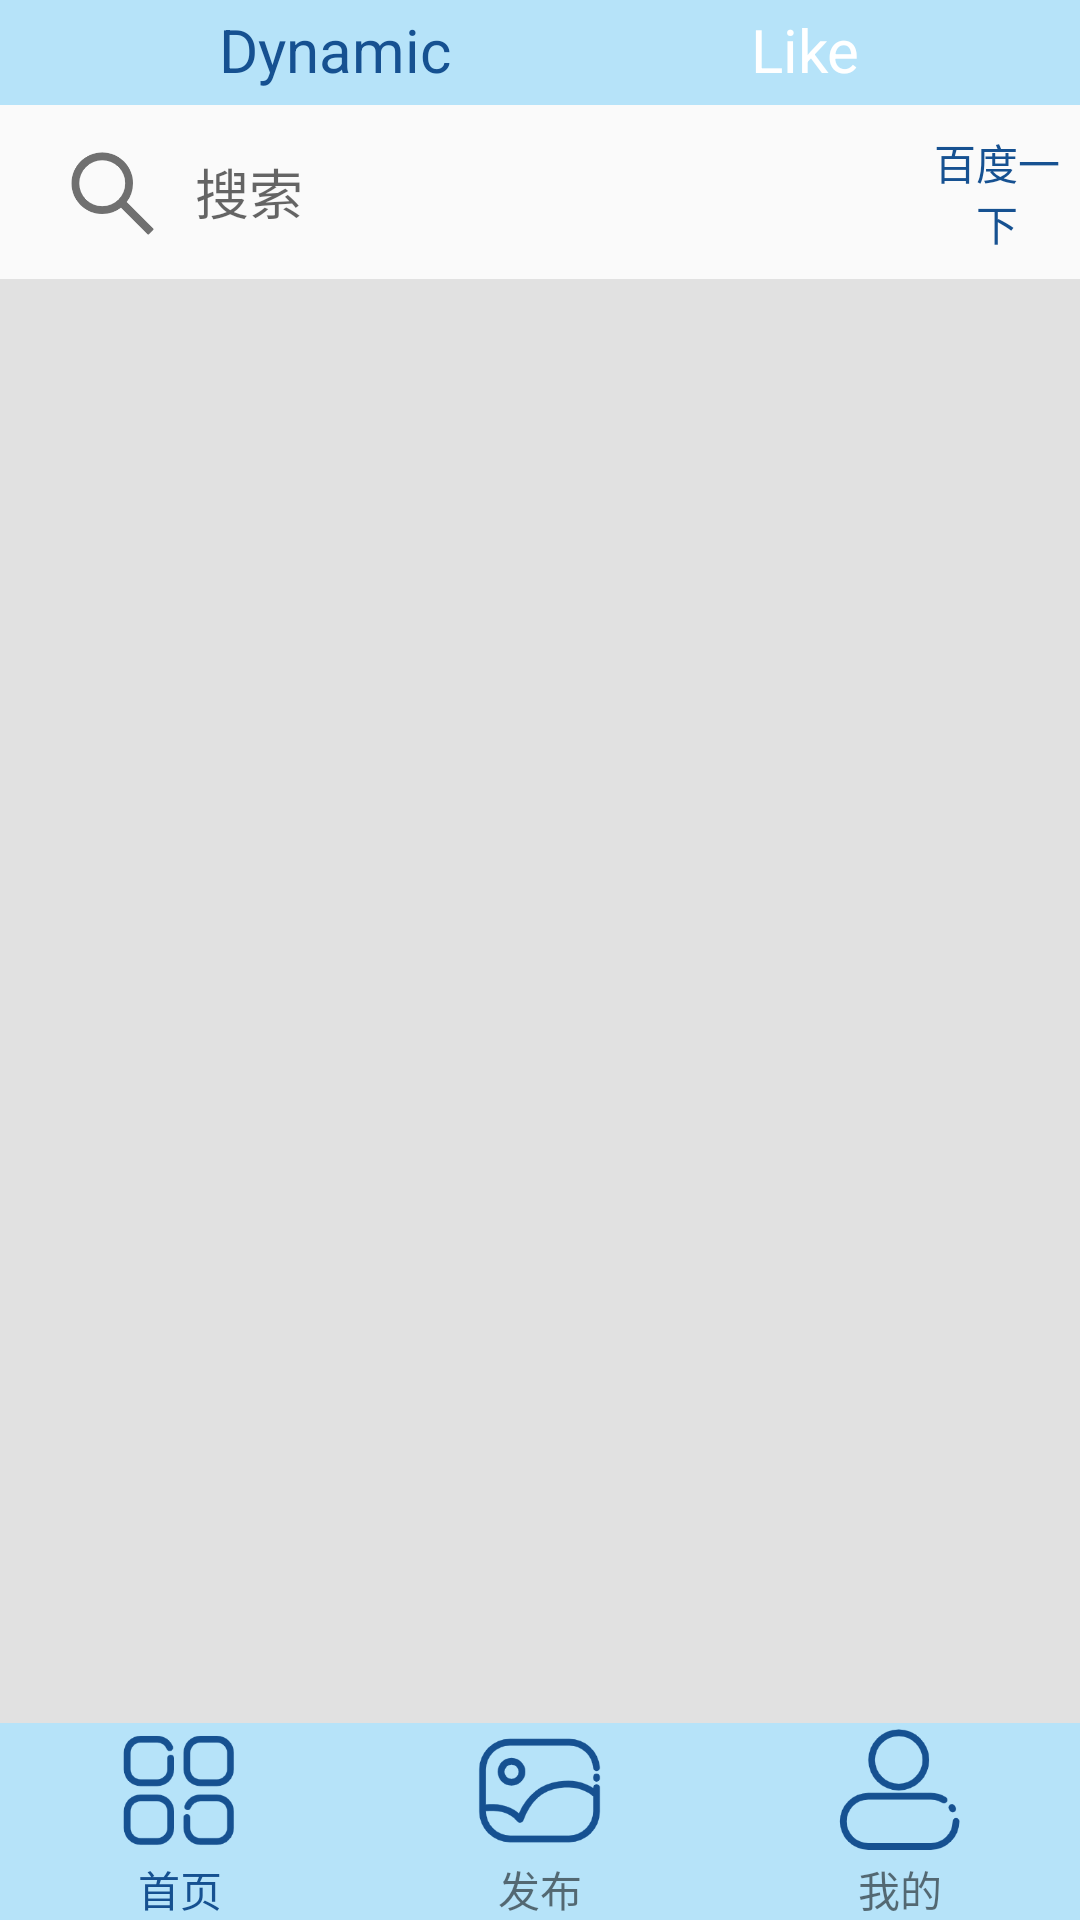

Icons on this 1080 × 1920 Android screen, each with the point to tap as (x,y):
search: (112,193)
